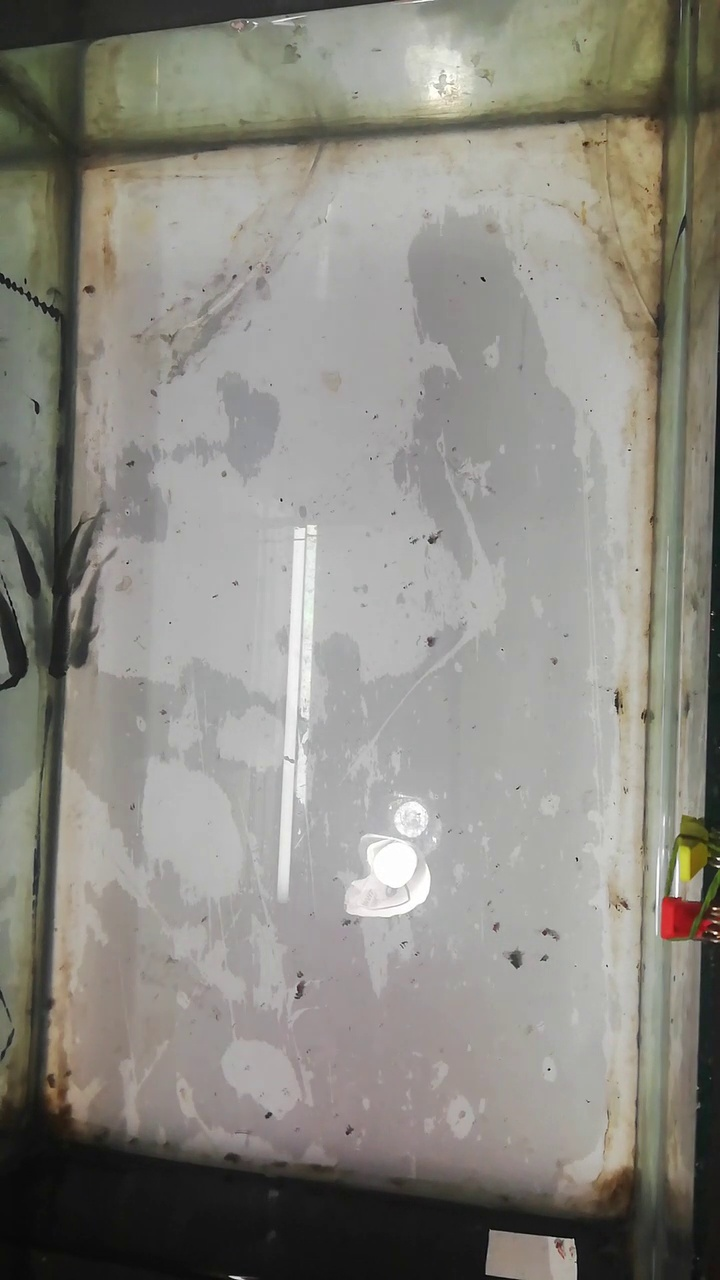fish1: (71, 566, 104, 681)
fish2: (65, 508, 104, 582)
